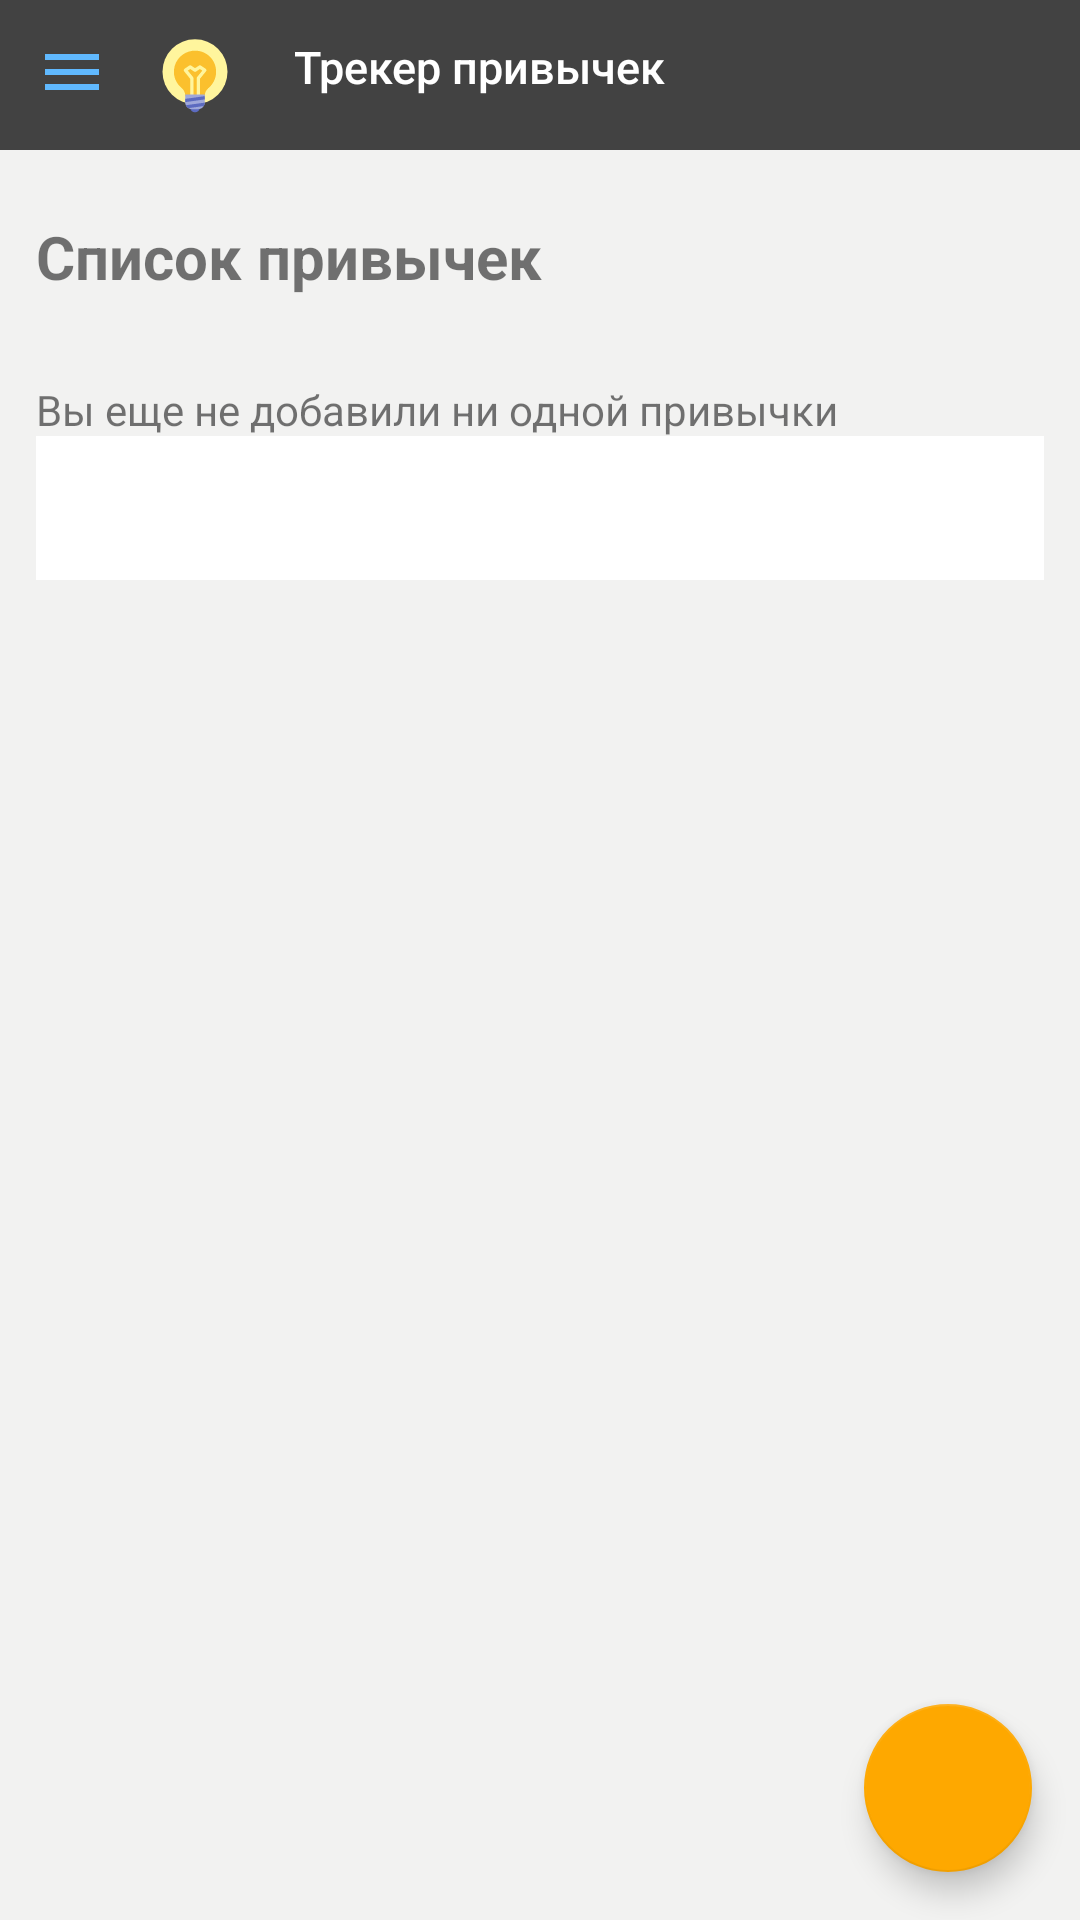

Named icons in this screenshot (1080×1920) and their centers, (x,y):
Меню: (72,72)
